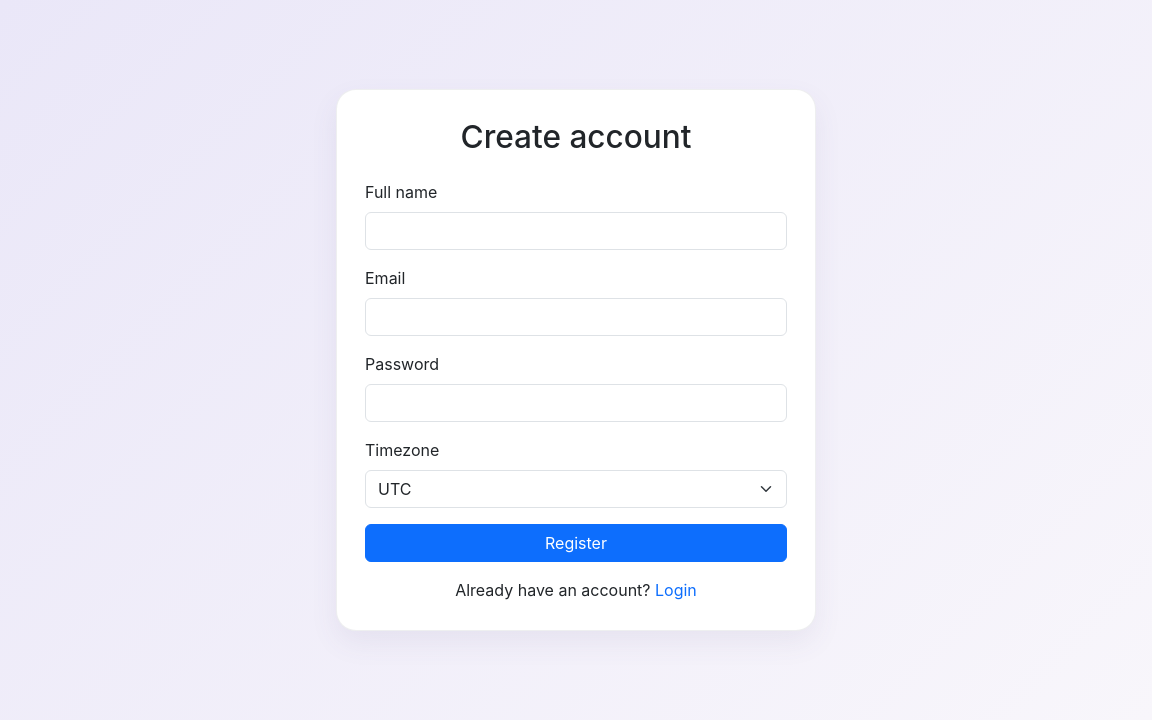
Test: authentication feedback › does not navigate on a registration failure
This screenshot has width=1152, height=720.
Type "Test User" into the field labelled "Full name".
click(576, 231); type("Test User")  # box [365, 212, 787, 250]
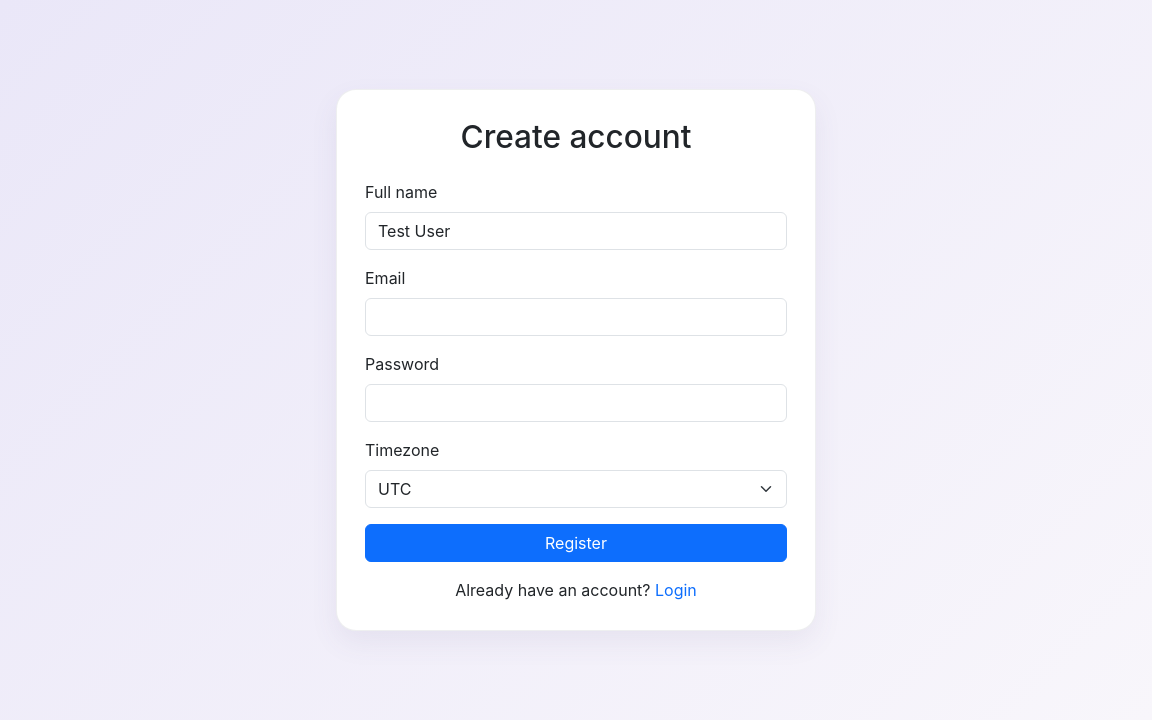
Type "test@example.com" into the field labelled "Email".
click(576, 317); type("test@example.com")  # box [365, 298, 787, 336]
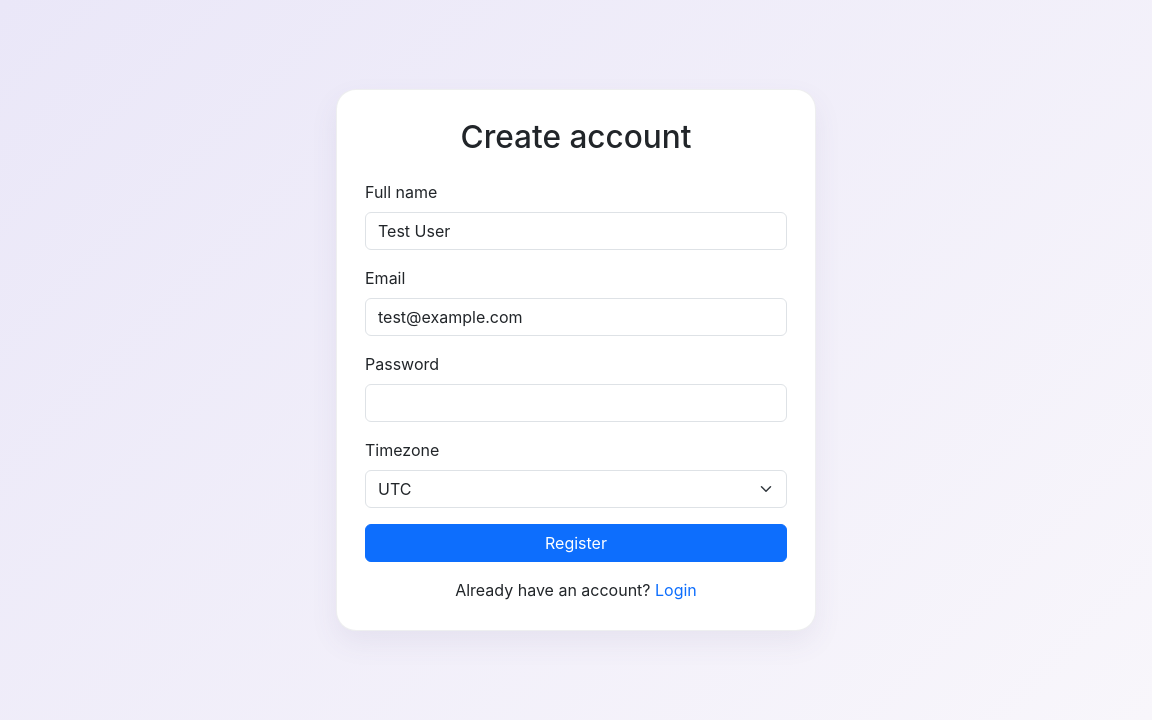
Type "secret123" into the password field labelled "Password".
click(576, 403); type("secret123")  # box [365, 384, 787, 422]
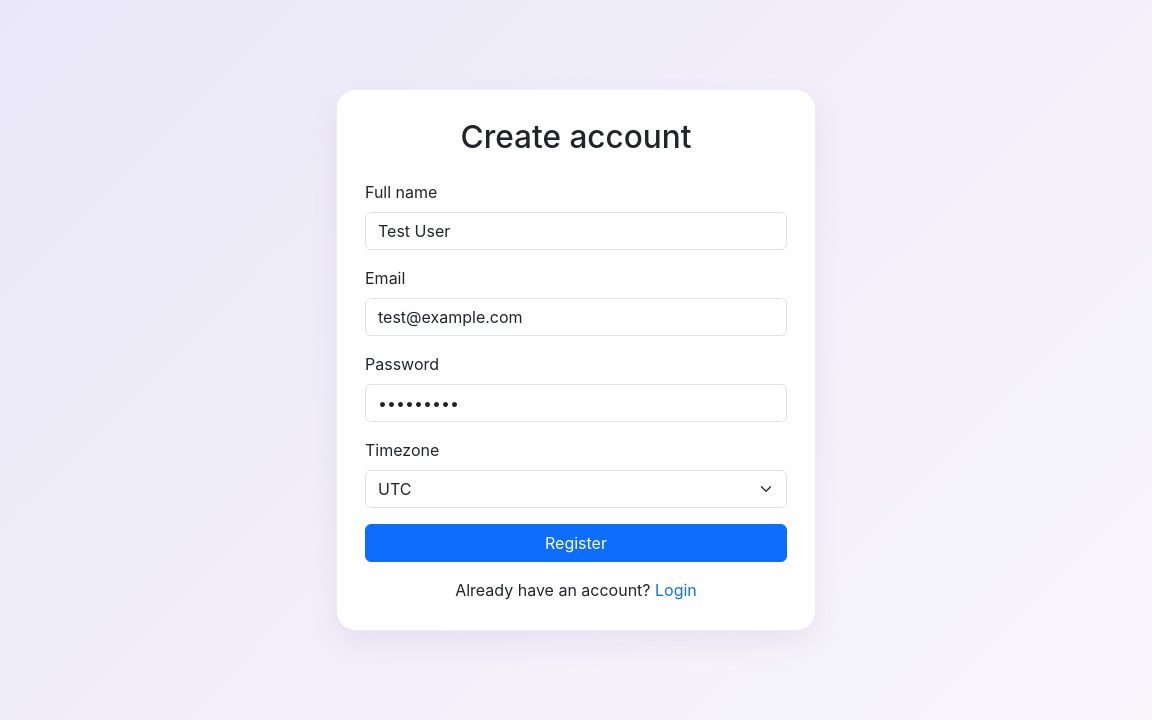
Click the button "Register".
click(576, 543)  # box [365, 524, 787, 562]
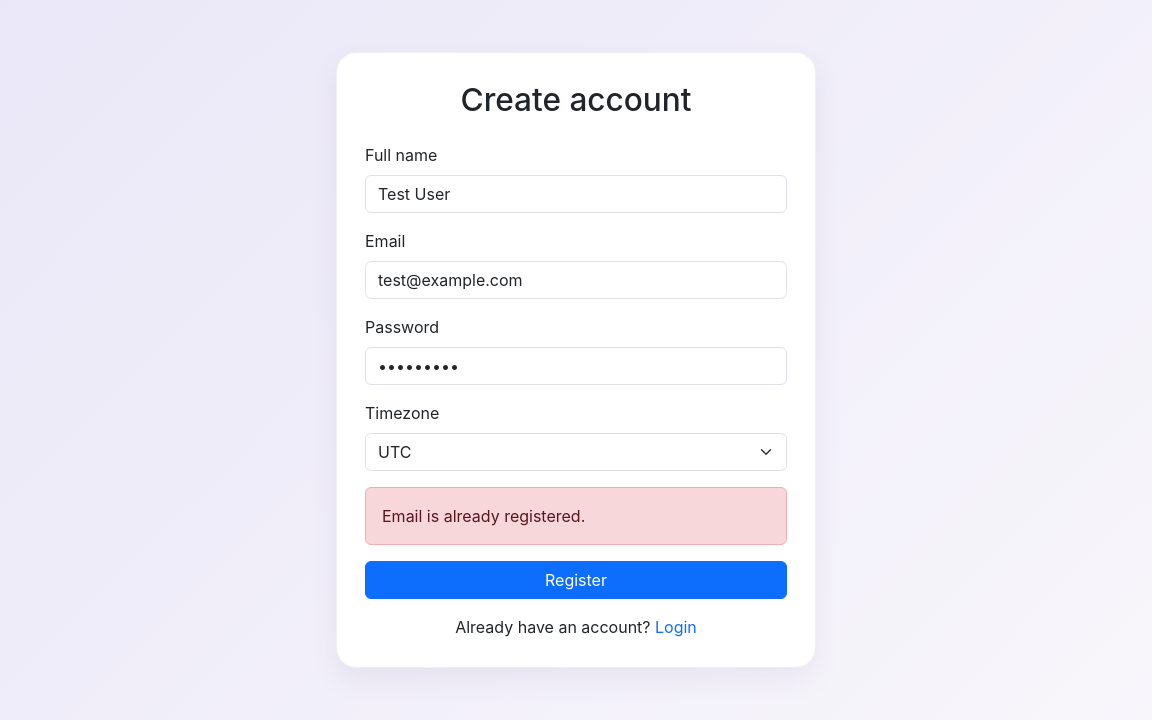
Now the message reads "Email is already registered.", box [382, 506, 585, 526]
